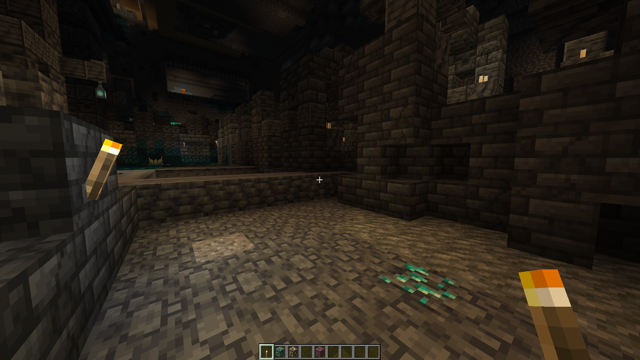diamond: (379, 257, 458, 314)
